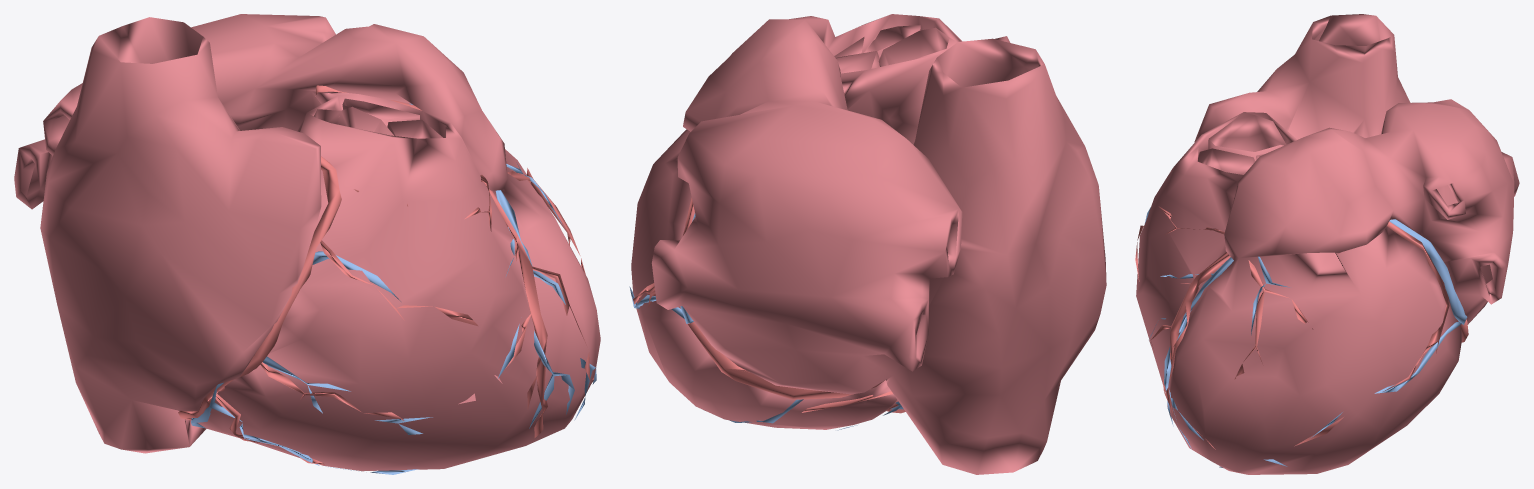
The model's file is heart.glb.
3 views of the same model, side by side, from view 1: azimuth 30°, elevation 25°; view 2: azimuth 150°, elevation 25°; view 3: azimuth 270°, elevation 25° (orthographic). The views are drawn at different scales.
Parts seen in each view (by area): view 1: heart; view 2: heart; view 3: heart.
Part boxes in pixels (<box>): heart: <box>14,14,600,474</box>; heart: <box>629,14,1106,474</box>; heart: <box>1135,14,1519,474</box>.
Bounding box in the file's own units: 0.1154 × 0.1052 × 0.1093.
